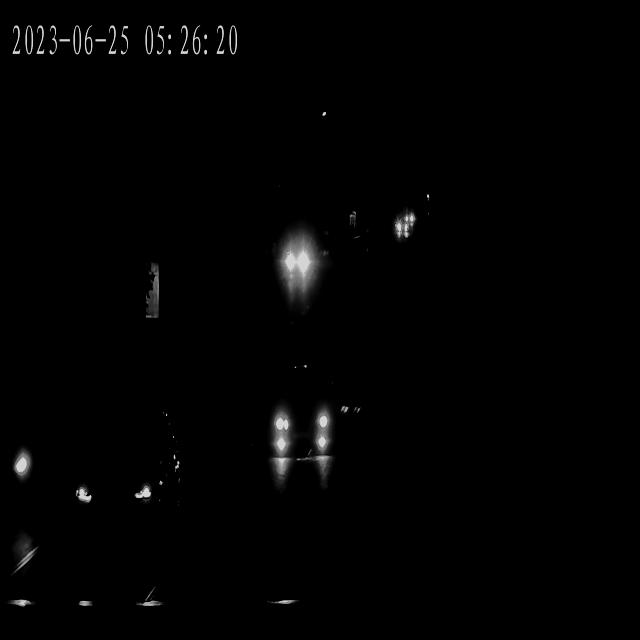Car: (65, 414, 179, 550), (272, 365, 344, 473), (1, 401, 59, 519), (280, 229, 320, 289), (395, 216, 413, 243)
